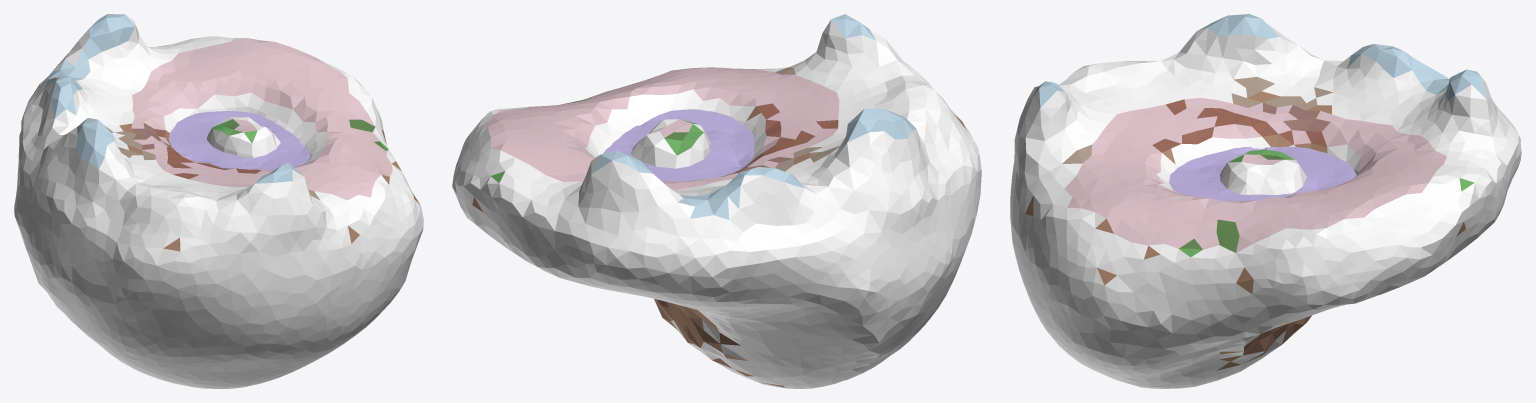
Rendered from iceIsland2.fbx.
The picture shows the model from 3 angles, left to right: view 1: azimuth 30°, elevation 25°; view 2: azimuth 150°, elevation 25°; view 3: azimuth 270°, elevation 25°; orthographic projection. The views are drawn at different scales.
Visible parts, largest first — view 1: Land, Plane; view 2: Land, Plane; view 3: Land, Plane.
Boxes of the visible parts, bbox=[...] form: Land: bbox=[14, 14, 423, 388]; Plane: bbox=[168, 111, 310, 170]; Land: bbox=[452, 14, 981, 388]; Plane: bbox=[603, 109, 754, 181]; Land: bbox=[1010, 14, 1521, 388]; Plane: bbox=[1169, 146, 1356, 201].
Size of the model in its own units: 2933 by 2130 by 3158.
